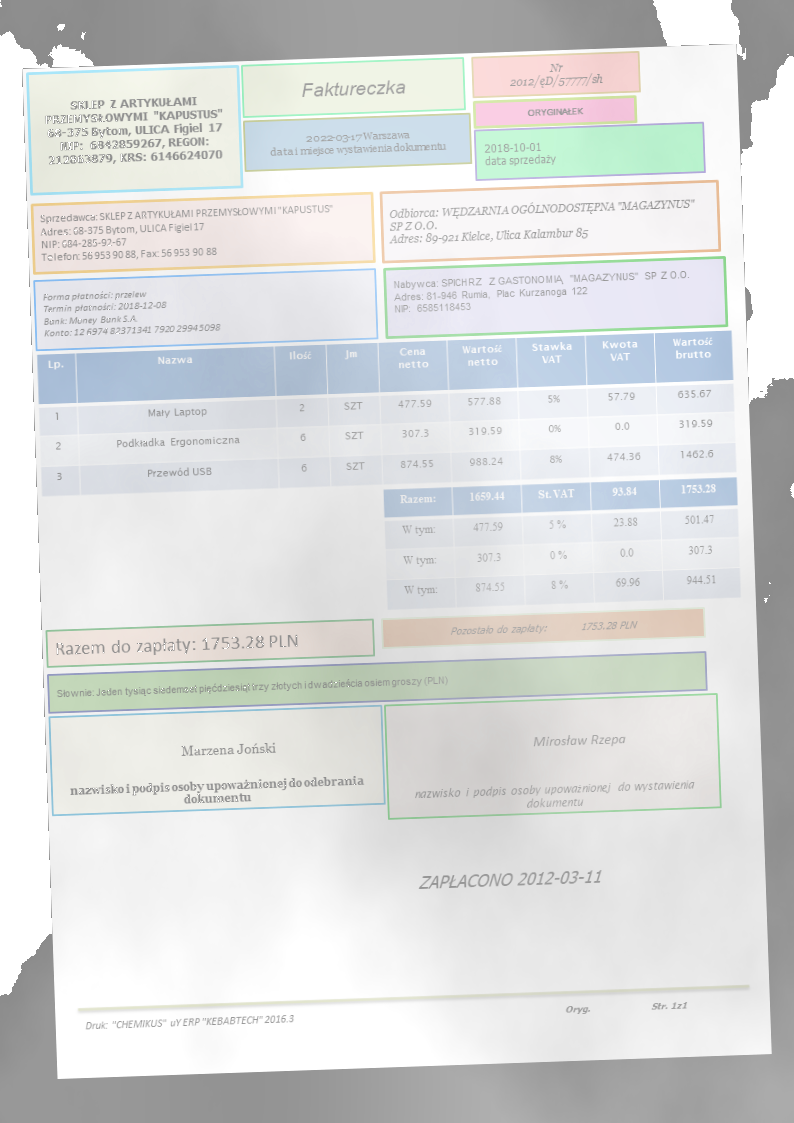Table: (35, 328, 739, 499), (382, 473, 743, 609)
TextBox: (36, 199, 335, 266), (386, 193, 699, 249), (392, 266, 692, 316), (40, 90, 226, 169), (53, 672, 452, 703), (67, 772, 367, 811), (411, 775, 697, 814), (40, 284, 223, 340), (51, 628, 300, 660), (267, 125, 449, 160), (416, 863, 607, 894), (82, 1009, 299, 1033), (446, 616, 641, 639), (507, 59, 605, 92), (297, 74, 408, 103), (176, 736, 278, 761), (562, 998, 690, 1017), (481, 137, 556, 169), (530, 728, 629, 751), (524, 102, 583, 120)
